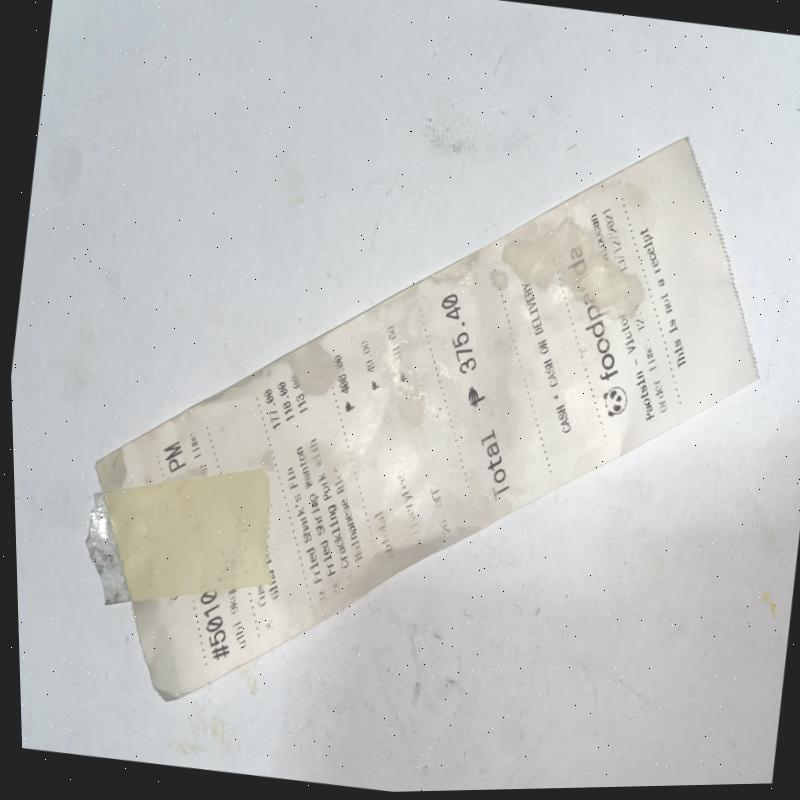paper: (89, 135, 764, 702)
